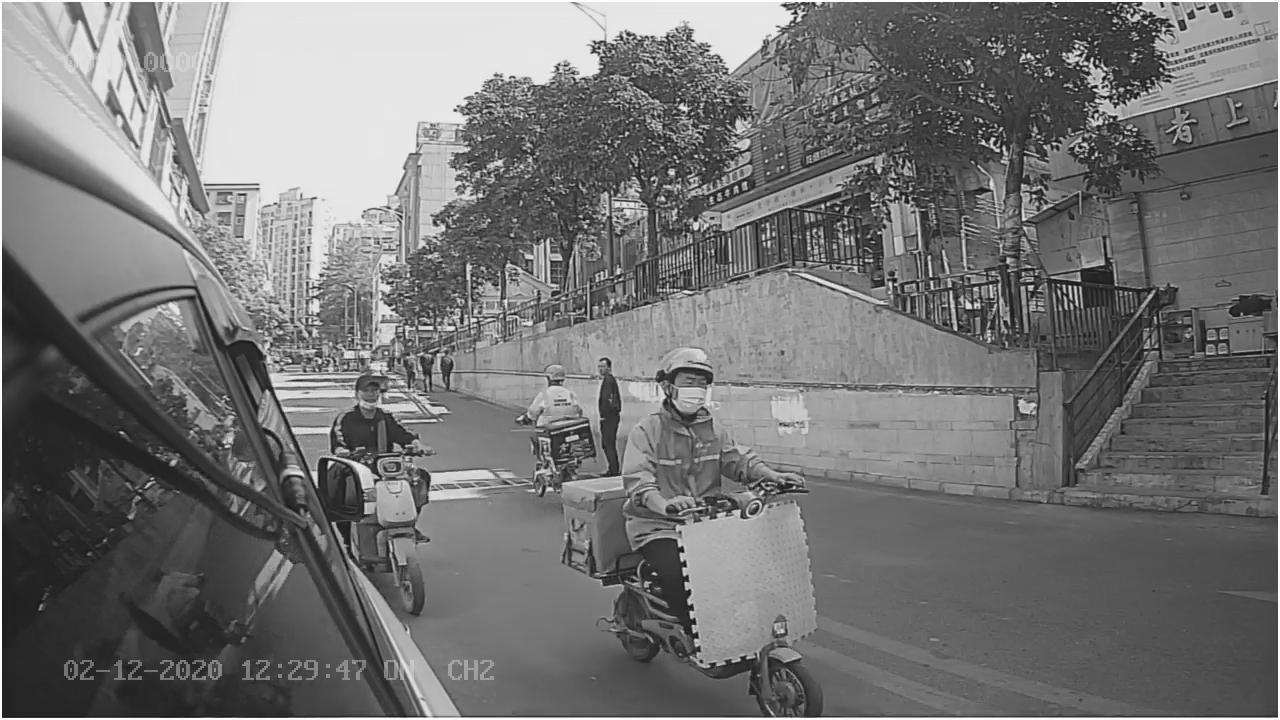person: (624, 344, 783, 509)
